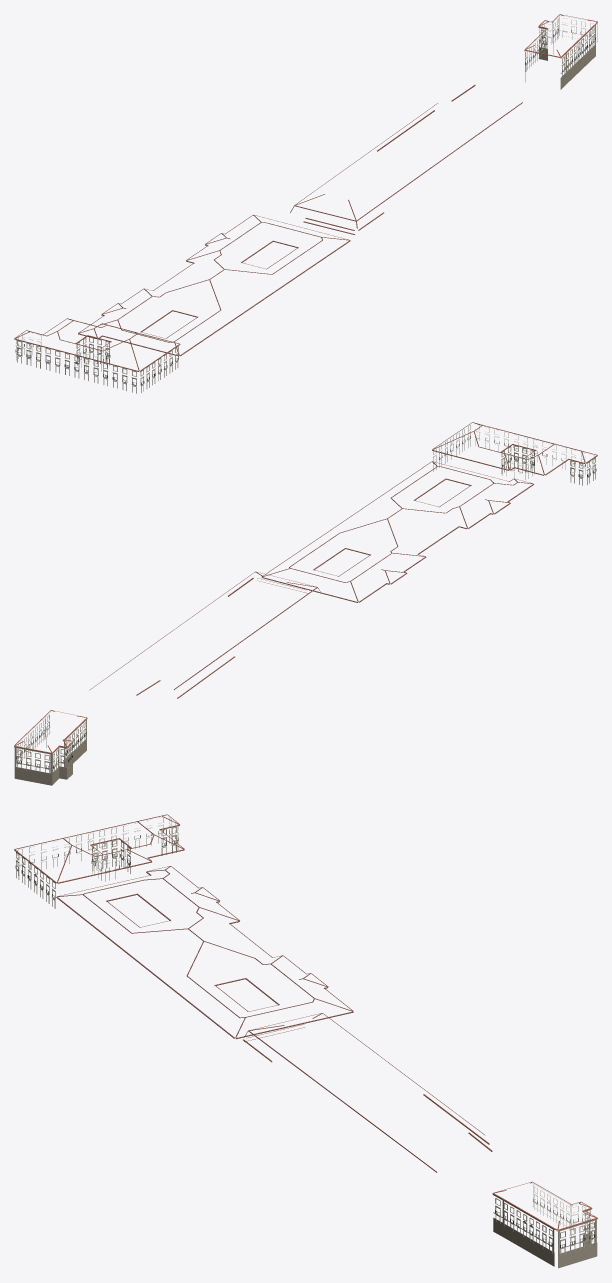
3 renders of one model, top to bottom at view 1: azimuth 30°, elevation 25°; view 2: azimuth 210°, elevation 25°; view 3: azimuth 270°, elevation 25°, orthographic. The views are drawn at different scales.
Visible parts, largest first — view 1: detail; view 2: detail; view 3: detail.
Part boxes in pixels (x1,y1,x2,y2): detail: (14,14,597,393); detail: (14,422,597,785); detail: (14,814,597,1268).
Bounding box in the file's own units: 296 × 14.93 × 170.
